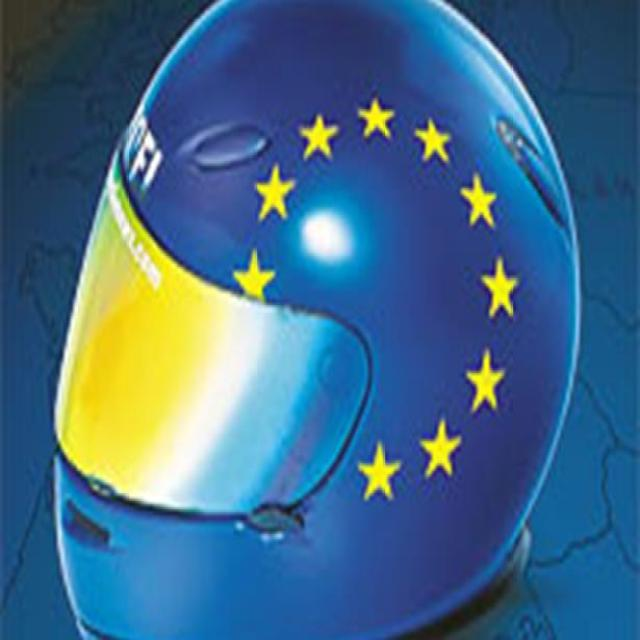illegal_helmet: (46, 0, 591, 640)
